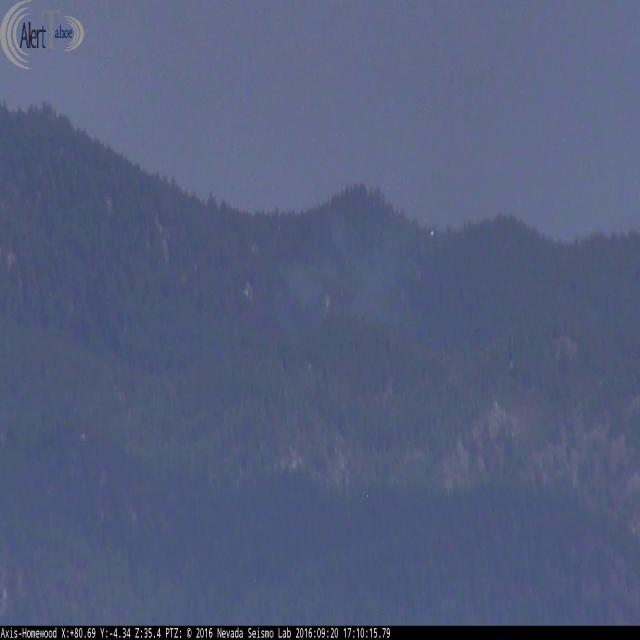smoke: (280, 220, 436, 304)
